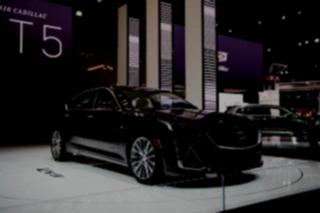cadillac: (232, 129, 253, 141)
